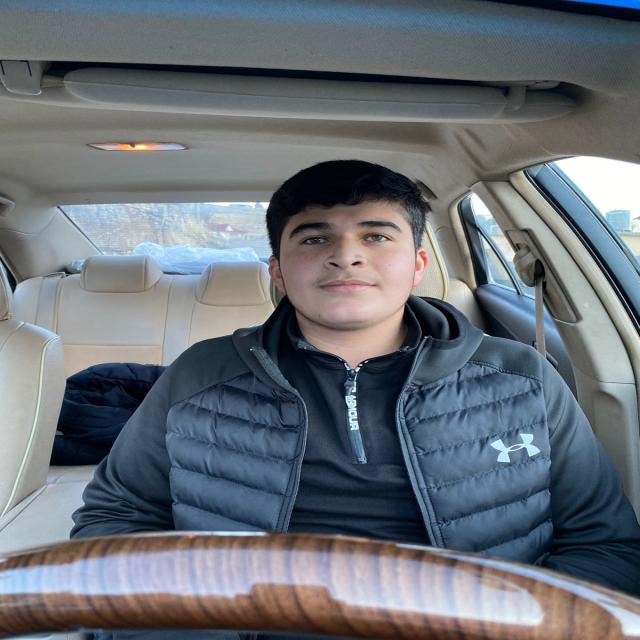person: (251, 159, 443, 336)
